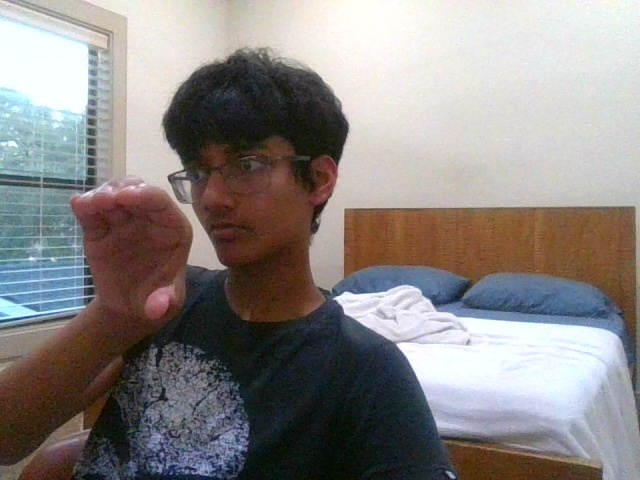no: (70, 177, 194, 321)
